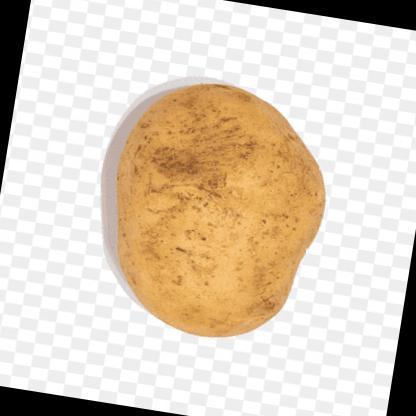potato: (89, 68, 344, 356)
